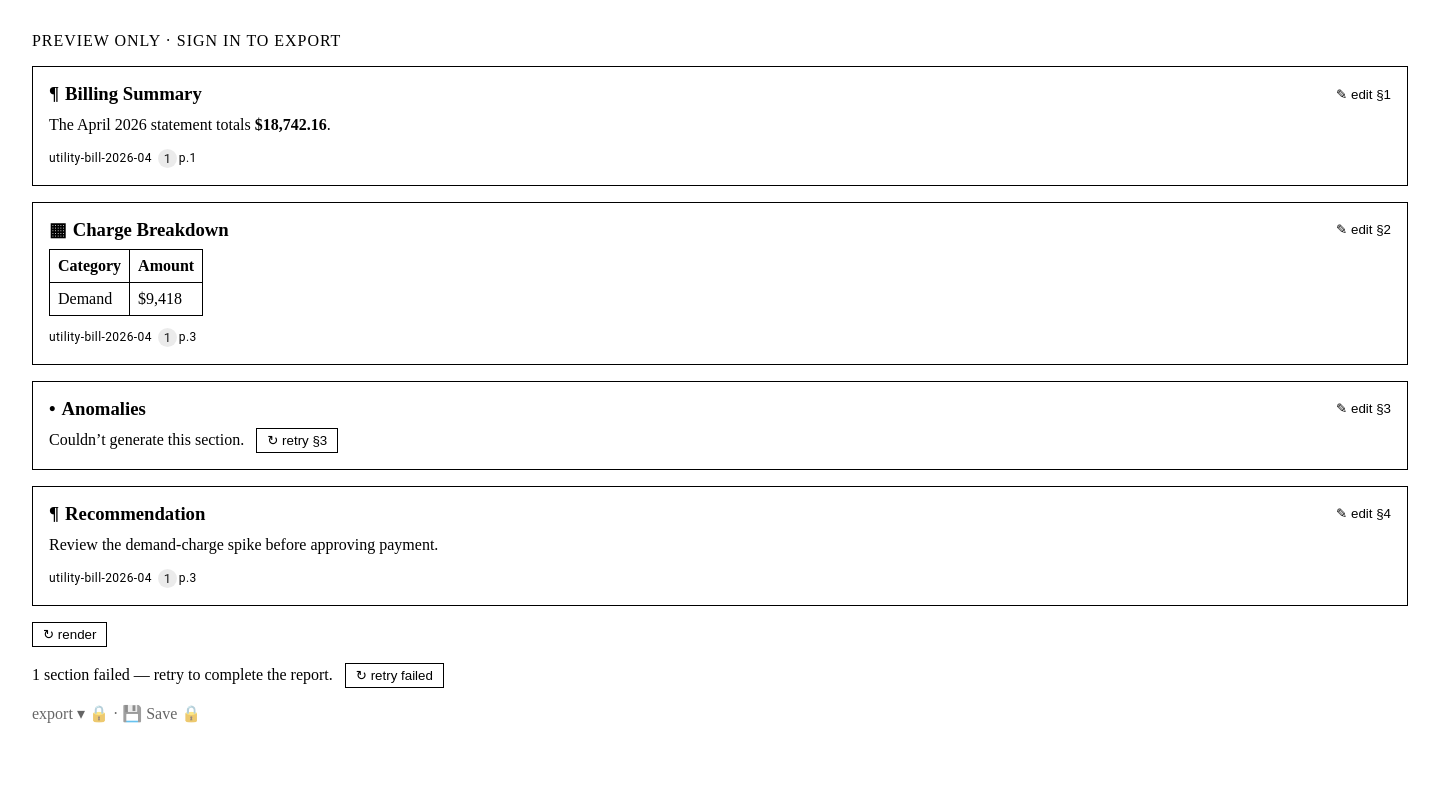
it: SmartReportRender — progressive streaming (progressive-report-render B3) › a failed section shows a retry affordance (for every role), and retrying re-renders just it
Expected: the element with test id "report-section-failed-anomalies" is shown, [49,428,338,453]
Expected: the element with test id "report-section-billing_summary" is shown, [32,66,1408,186]
Click the button with test id "report-section-retry-anomalies" at (297,440), box [256,428,338,453]
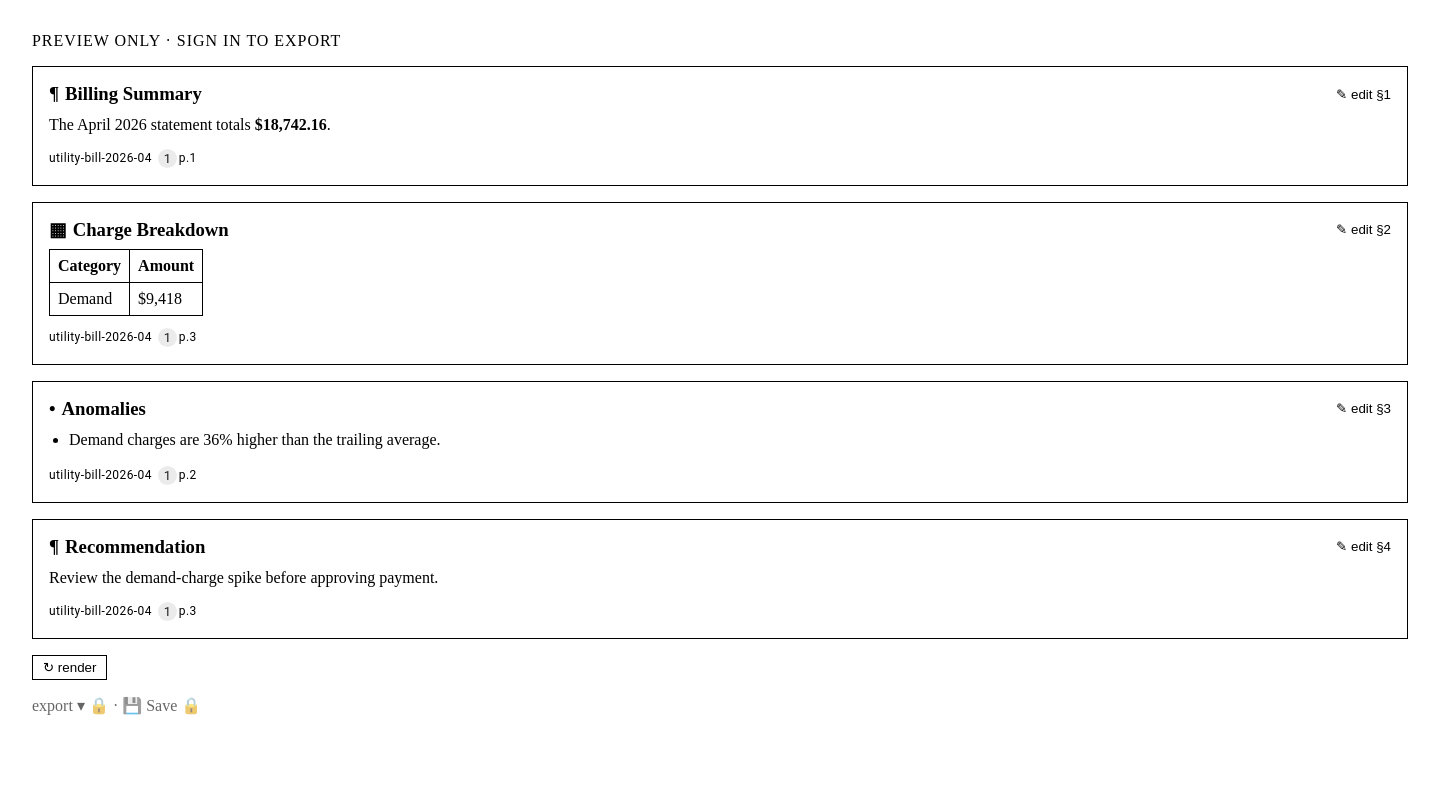
Expected: the element with test id "report-section-anomalies" is shown, [32,381,1408,503]
Expected: the element with test id "report-section-failed-anomalies" is gone
